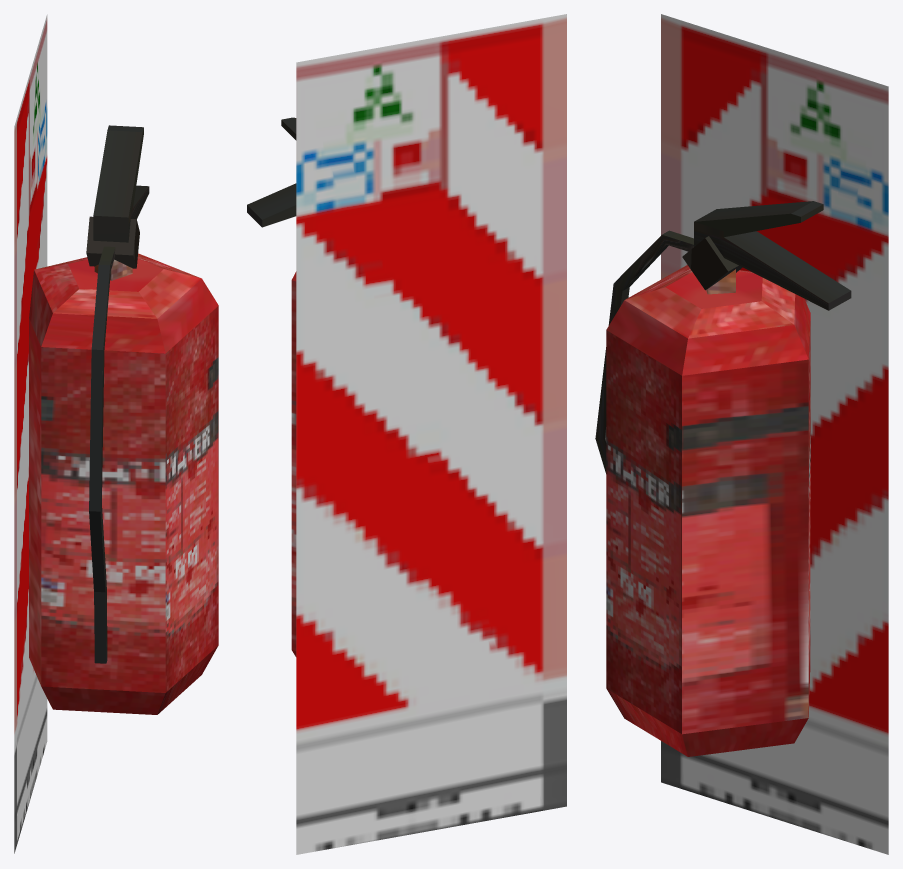
Rendered from Matafuego.obj.
3 renders of one model, left to right at view 1: azimuth 30°, elevation 25°; view 2: azimuth 150°, elevation 25°; view 3: azimuth 270°, elevation 25°, orthographic. The views are drawn at different scales.
Visible parts, largest first — view 1: Cylinder; view 2: Cylinder; view 3: Cylinder.
Part boxes in pixels (left/top/right/bottom): Cylinder: left=14, top=14, right=218, bottom=853; Cylinder: left=247, top=14, right=566, bottom=854; Cylinder: left=595, top=14, right=888, bottom=854.
Size of the model in its own units: 0.9058 by 2.94 by 1.01.
